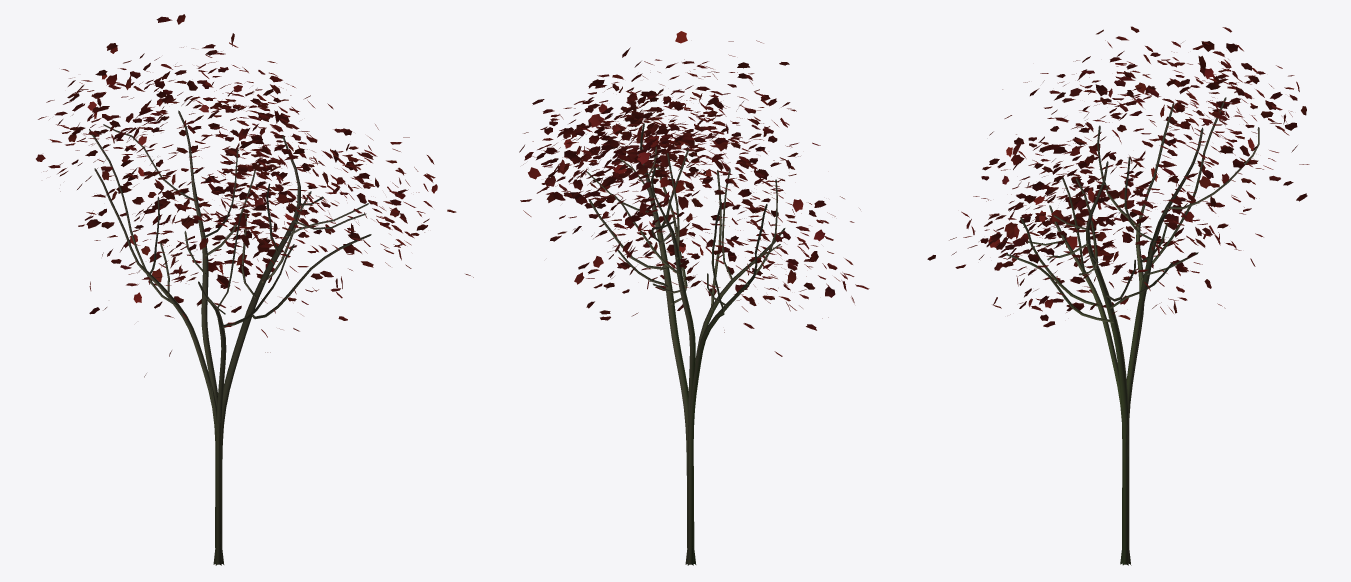
The model's file is SM_Tree_garden_tree_2.glb.
3 renders of one model, left to right at view 1: azimuth 30°, elevation 25°; view 2: azimuth 150°, elevation 25°; view 3: azimuth 270°, elevation 25°, orthographic. The views are drawn at different scales.
Parts seen in each view (by area): view 1: SM_Tree_garden_tree_2; view 2: SM_Tree_garden_tree_2; view 3: SM_Tree_garden_tree_2.
Part boxes in pixels (box(x1,y1,x2,y2)): SM_Tree_garden_tree_2: box(36, 14, 473, 565); SM_Tree_garden_tree_2: box(519, 31, 869, 565); SM_Tree_garden_tree_2: box(927, 26, 1309, 565).
Size of the model in its own units: 2.99 by 4.09 by 2.8.
